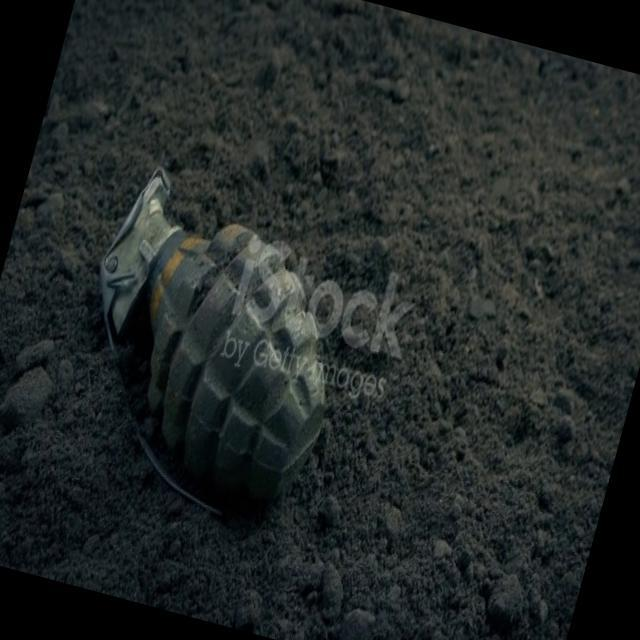grenade: (51, 157, 380, 532)
